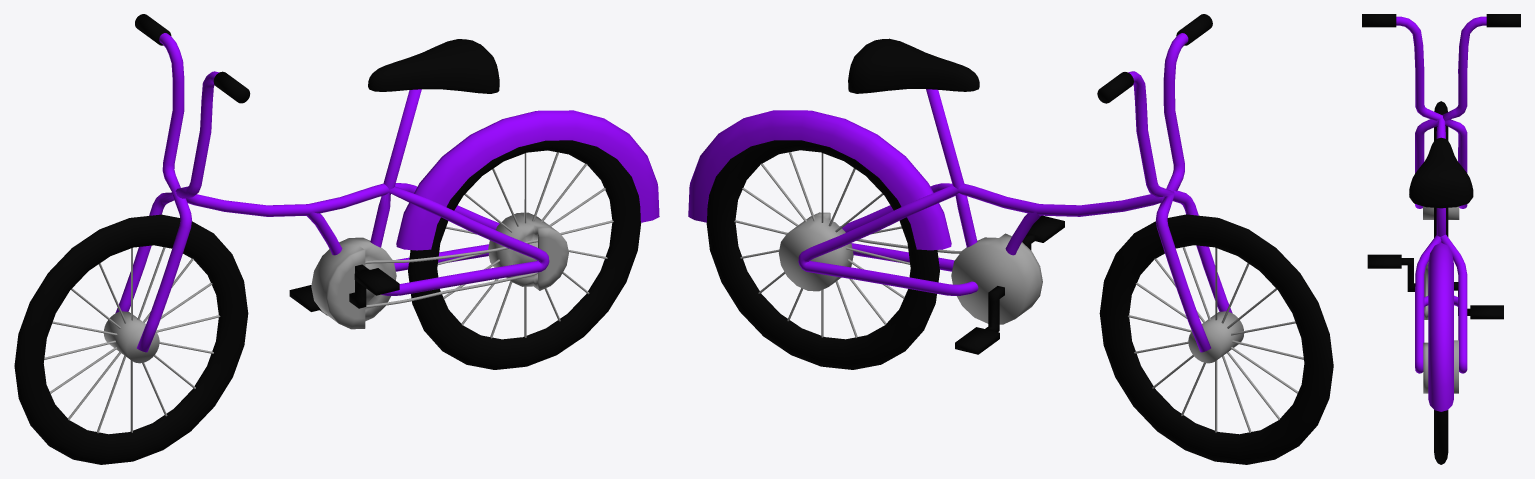
Rendered from BikePurple.fbx.
The picture shows the model from 3 angles, left to right: view 1: azimuth 30°, elevation 25°; view 2: azimuth 150°, elevation 25°; view 3: azimuth 270°, elevation 25°; orthographic projection. The views are drawn at different scales.
Parts seen in each view (by area): view 1: Circle; view 2: Circle; view 3: Circle.
Boxes of the visible parts, <box> form: Circle: <box>14,14,659,464</box>; Circle: <box>688,14,1333,464</box>; Circle: <box>1362,14,1520,464</box>.
Size of the model in its own units: 253 by 149 by 68.44.
